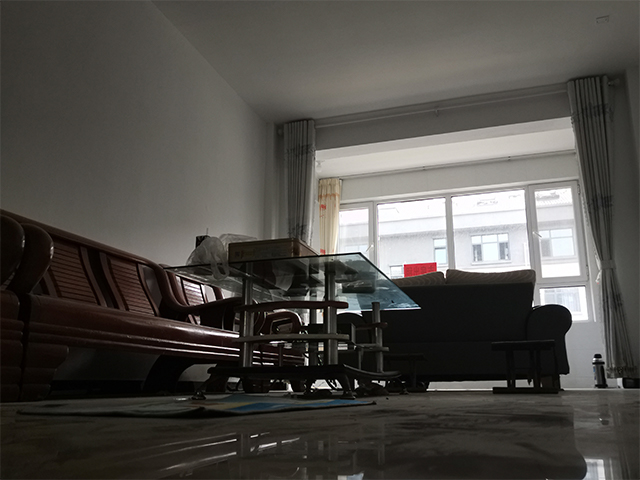carpet: (15, 394, 377, 421)
curtain: (563, 69, 639, 382), (281, 118, 314, 240), (316, 174, 342, 251)
sofa: (1, 224, 231, 403), (414, 261, 570, 393)
table: (158, 248, 424, 401)
